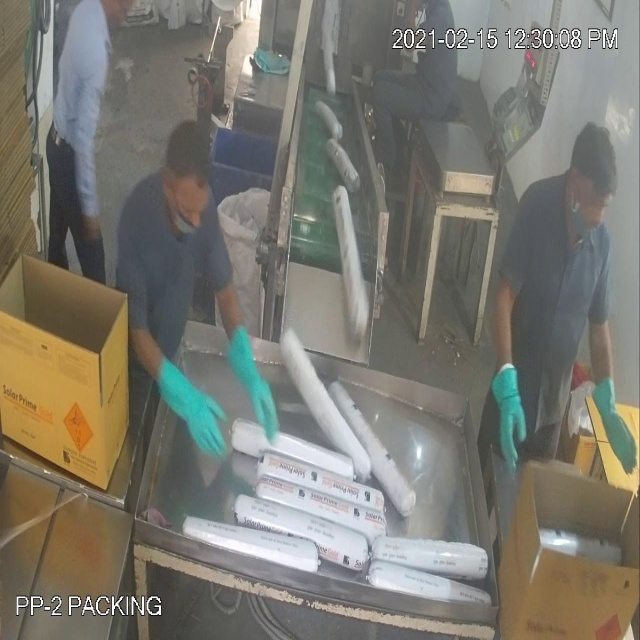Guantes: (147, 334, 234, 478), (476, 272, 535, 478), (576, 287, 640, 476), (220, 310, 280, 446)
Sin_guantes: (60, 50, 116, 253)
